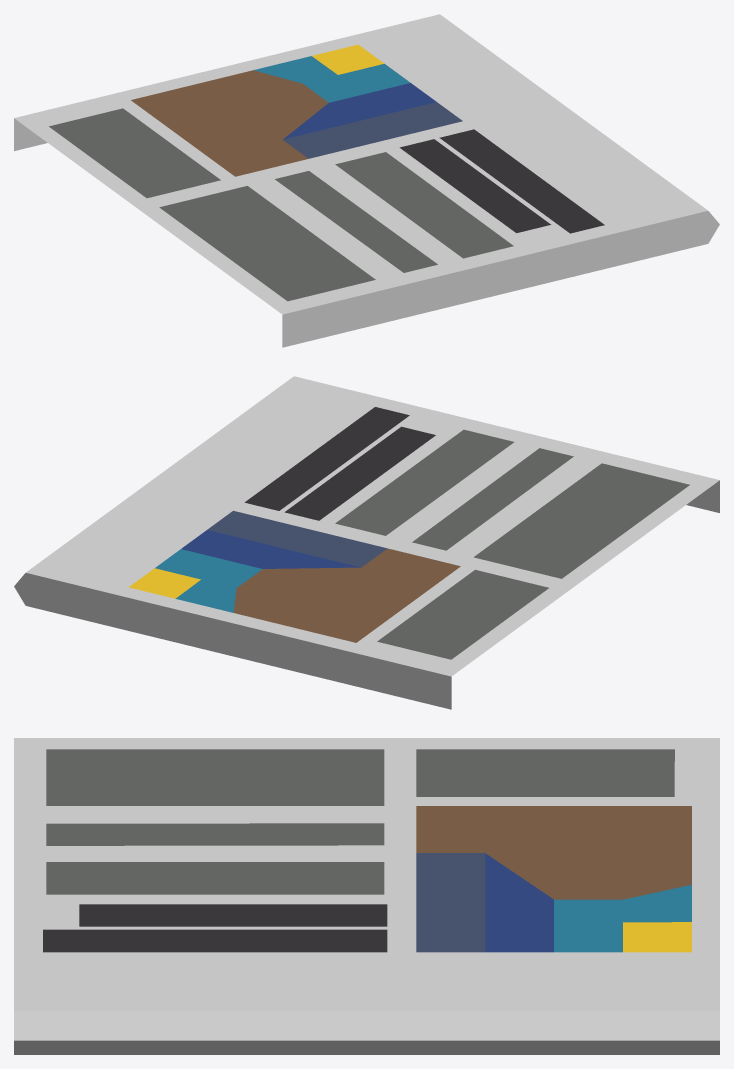
File: SM_newspaperSingle.gltf
3 renders of one model, top to bottom at view 1: azimuth 30°, elevation 25°; view 2: azimuth 150°, elevation 25°; view 3: azimuth 270°, elevation 25°, orthographic. The views are drawn at different scales.
Visible parts, largest first — view 1: SM_newspaperSingle; view 2: SM_newspaperSingle; view 3: SM_newspaperSingle.
Part boxes in pixels (x1=…): SM_newspaperSingle: x1=14, y1=14, x2=719, y2=347; SM_newspaperSingle: x1=14, y1=376, x2=719, y2=709; SM_newspaperSingle: x1=14, y1=738, x2=719, y2=1054.
Bounding box in the file's own units: 0.4115 × 0.0298 × 0.4372.
1 material, 1 textured.
